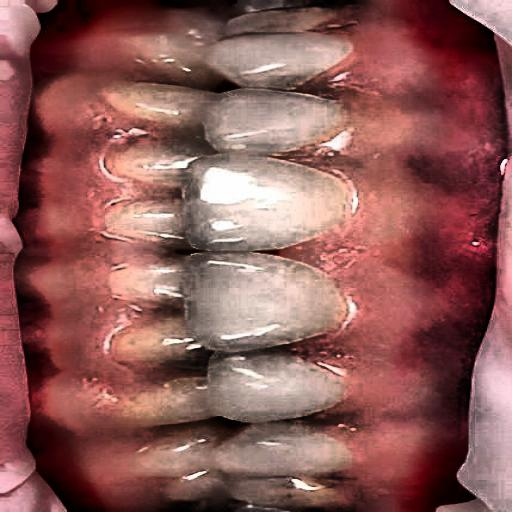Healthy: (84, 11, 400, 480)
